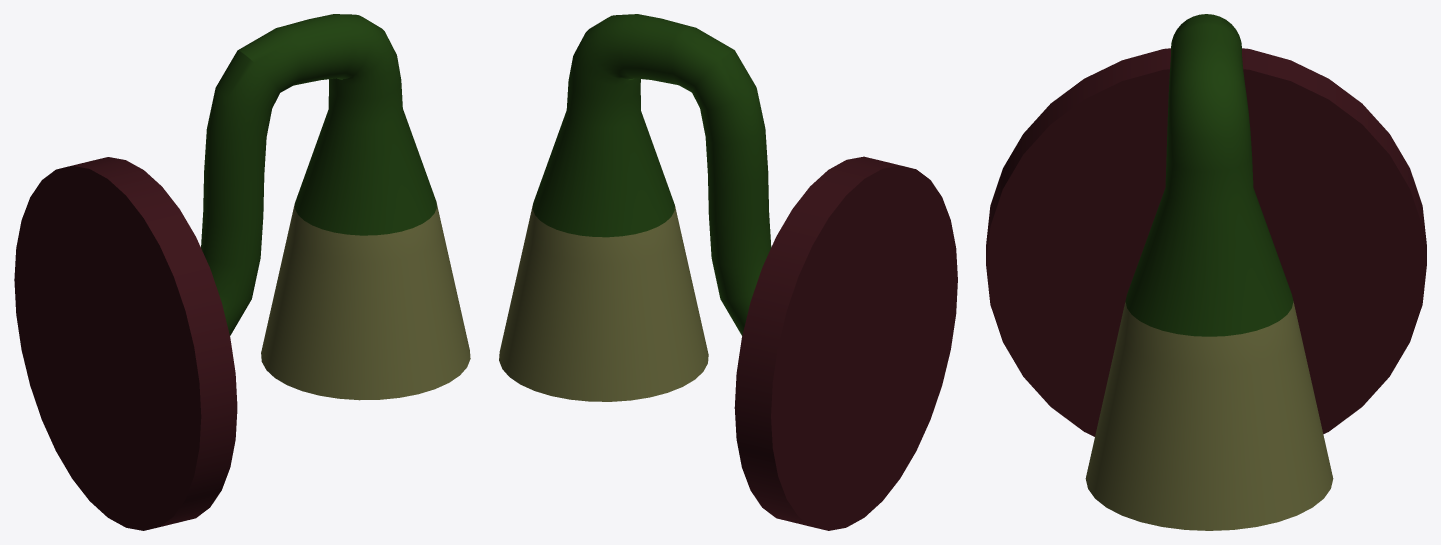
File: duvar_lamba.fbx
3 views of the same model, side by side, from view 1: azimuth 30°, elevation 25°; view 2: azimuth 150°, elevation 25°; view 3: azimuth 270°, elevation 25° (orthographic). The views are drawn at different scales.
Visible parts, largest first — view 1: Circle; view 2: Circle; view 3: Circle.
Boxes of the visible parts, x1=… form: Circle: x1=14, y1=14, x2=470, y2=530; Circle: x1=499, y1=14, x2=957, y2=530; Circle: x1=986, y1=14, x2=1426, y2=530.
Bounding box in the file's own units: 432 × 525 × 399.
